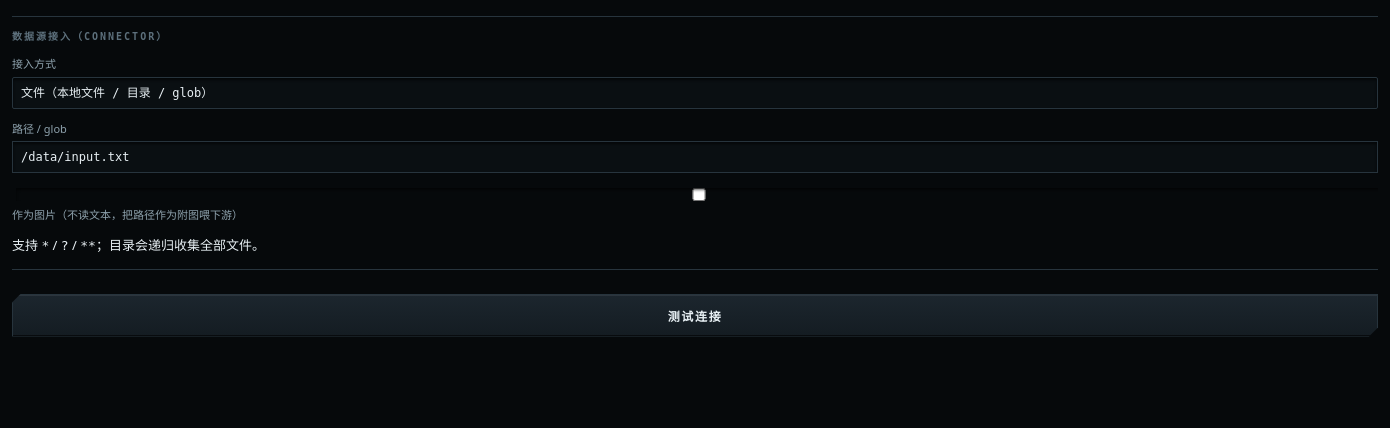
Test: ConnectorEditor › 测试连接 › 测试成功且有图片时显示图片数量
The width and height of the screenshot is (1390, 428).
Click the button "测试连接". click: [695, 315]
box: 12,294 -> 1378,336
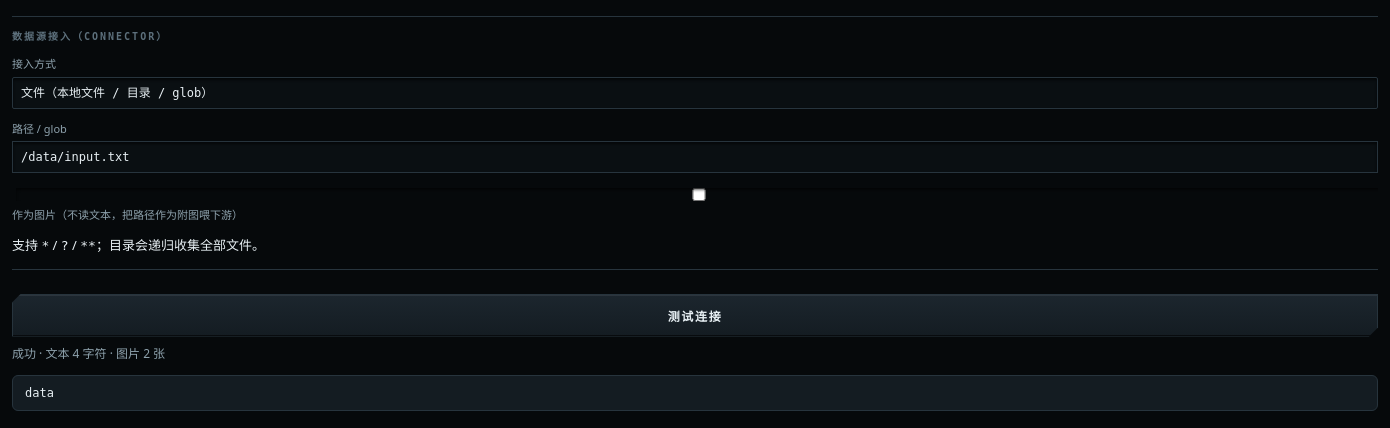
Check: the text "成功 · 文本 4 字符 · 图片 2 张" is shown, box 12,344 -> 165,362
